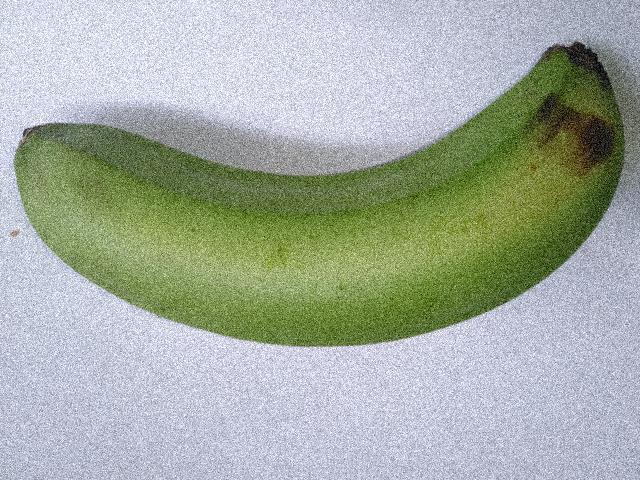freshunripe: (7, 26, 639, 358)
